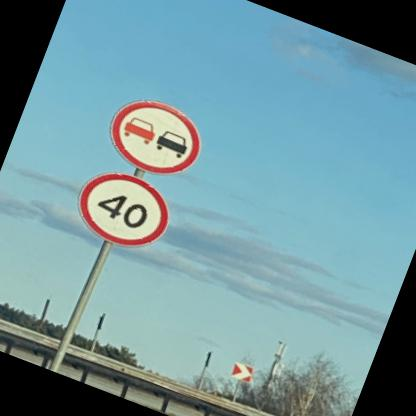speedlimit: (64, 156, 177, 256)
